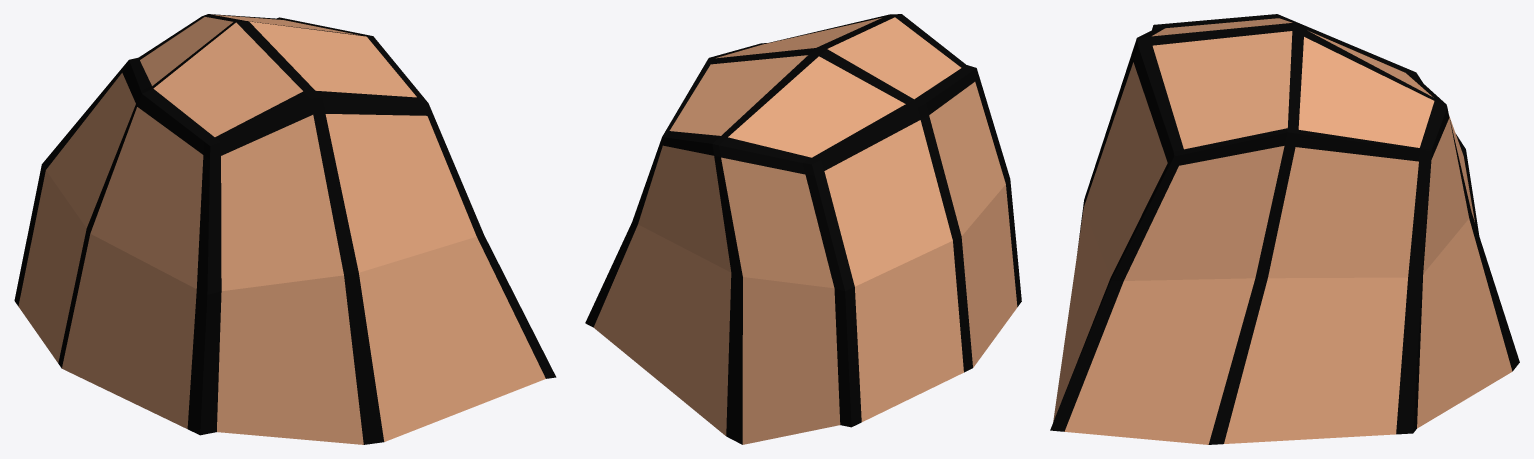
Rendered from CardboardRock02.fbx.
3 renders of one model, left to right at view 1: azimuth 30°, elevation 25°; view 2: azimuth 150°, elevation 25°; view 3: azimuth 270°, elevation 25°, orthographic. The views are drawn at different scales.
Parts seen in each view (by area): view 1: Cube.012; view 2: Cube.012; view 3: Cube.012.
Part boxes in pixels (x1,y1,x2,y2): Cube.012: (14,14,556,444); Cube.012: (585,14,1021,444); Cube.012: (1050,14,1519,444).
Size of the model in its own units: 596 by 514 by 626.
